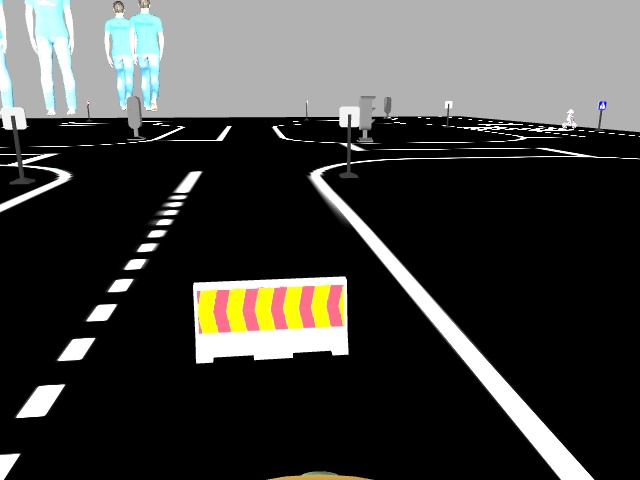ClosedRoadStand: (194, 282, 346, 357)
